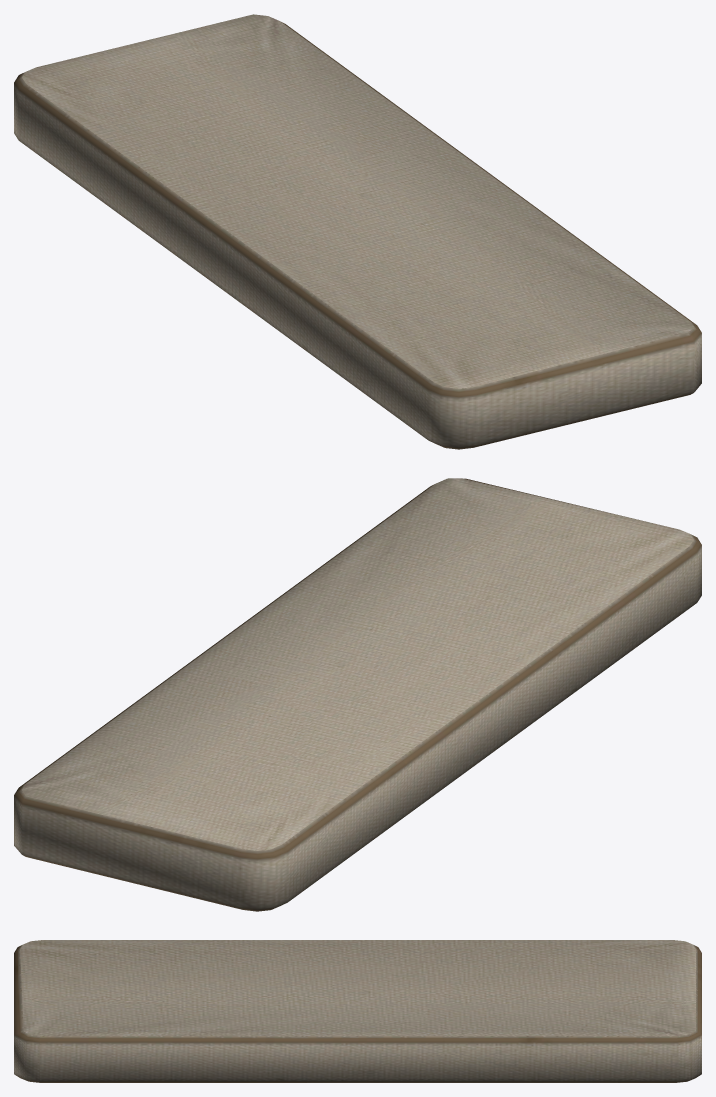
File: p6_cushion_boat_bar_lod0.glb
The picture shows the model from 3 angles, top to bottom: view 1: azimuth 30°, elevation 25°; view 2: azimuth 150°, elevation 25°; view 3: azimuth 270°, elevation 25°; orthographic projection. The views are drawn at different scales.
Parts seen in each view (by area): view 1: surf0; view 2: surf0; view 3: surf0.
Boxes of the visible parts, bbox=[...] form: surf0: bbox=[14, 14, 701, 449]; surf0: bbox=[14, 478, 701, 911]; surf0: bbox=[14, 940, 701, 1082].
Size of the model in its own units: 36.86 by 7.98 by 106.
